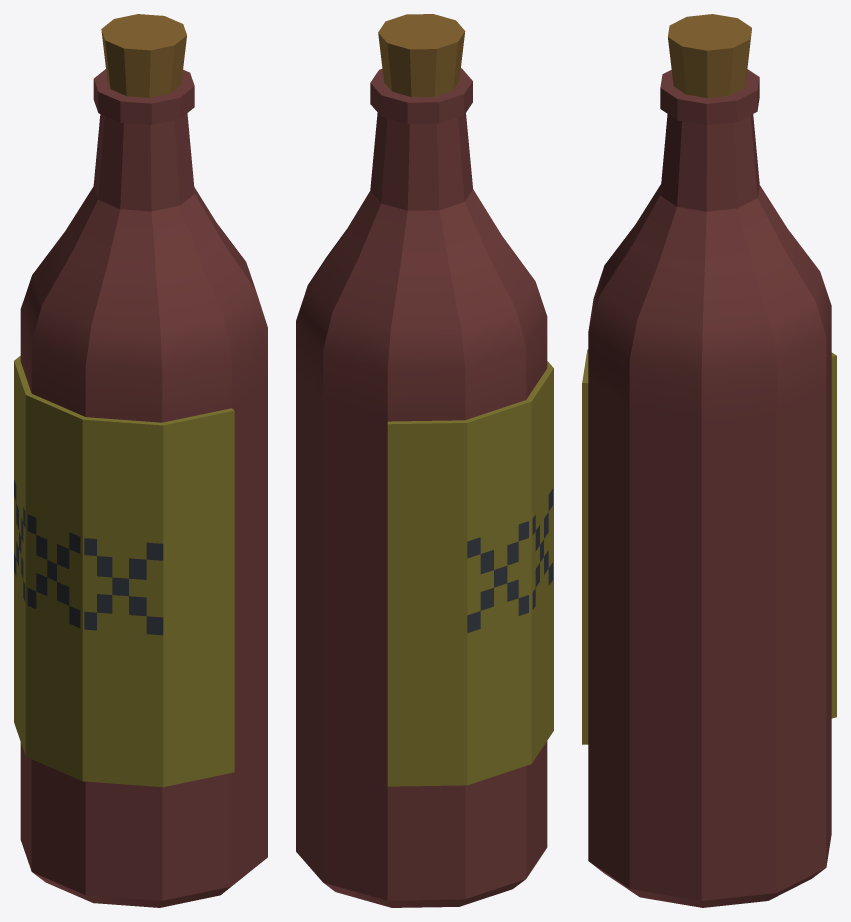
File: Rum_Bottle.fbx
3 views of the same model, side by side, from view 1: azimuth 30°, elevation 25°; view 2: azimuth 150°, elevation 25°; view 3: azimuth 270°, elevation 25° (orthographic).
Visible parts, largest first — view 1: Rum_Bottle; view 2: Rum_Bottle; view 3: Rum_Bottle.
Part boxes in pixels (<box>): Rum_Bottle: <box>14,14,267,907</box>; Rum_Bottle: <box>296,14,553,907</box>; Rum_Bottle: <box>582,14,836,907</box>.
Bounding box in the file's own units: 2.62 × 9.34 × 2.6.
